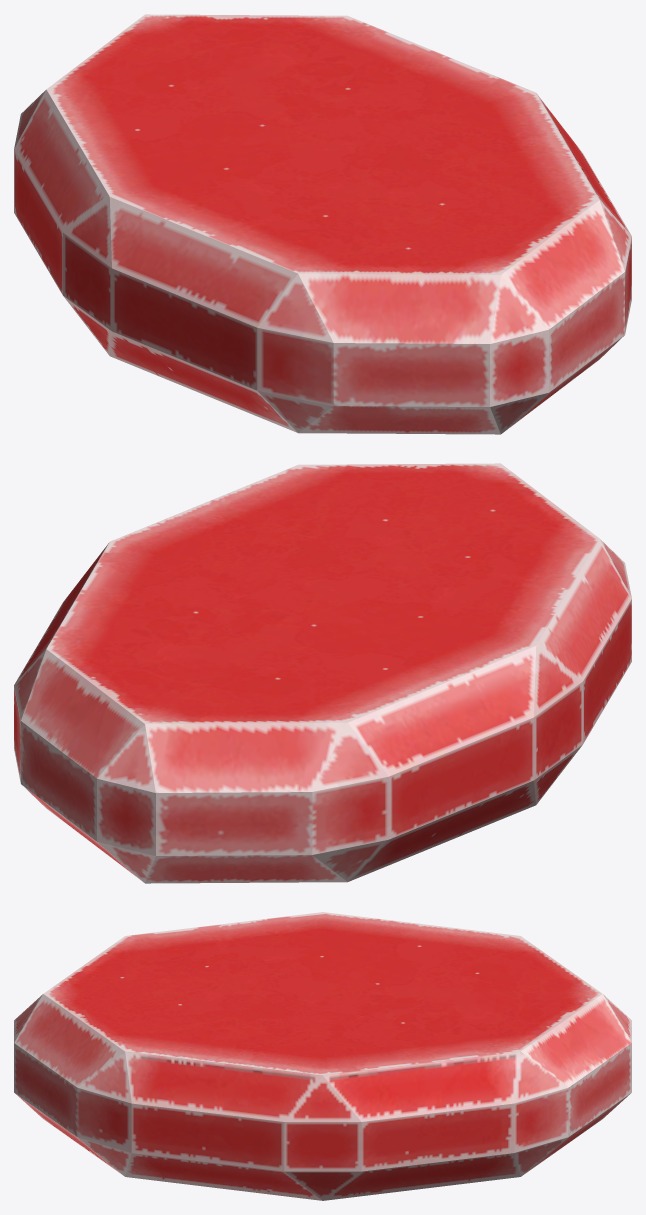
Rendered from Ruby_Polished.glb.
3 views of the same model, one above another, from view 1: azimuth 30°, elevation 25°; view 2: azimuth 150°, elevation 25°; view 3: azimuth 270°, elevation 25° (orthographic). The views are drawn at different scales.
Visible parts, largest first — view 1: Ruby_Polished; view 2: Ruby_Polished; view 3: Ruby_Polished.
Part boxes in pixels (left/top/right/bottom): Ruby_Polished: left=14, top=14, right=631, bottom=434; Ruby_Polished: left=14, top=463, right=631, bottom=883; Ruby_Polished: left=14, top=912, right=631, bottom=1200.
Size of the model in its own units: 0.2413 by 0.0781 by 0.3488.
1 material, 1 textured.
